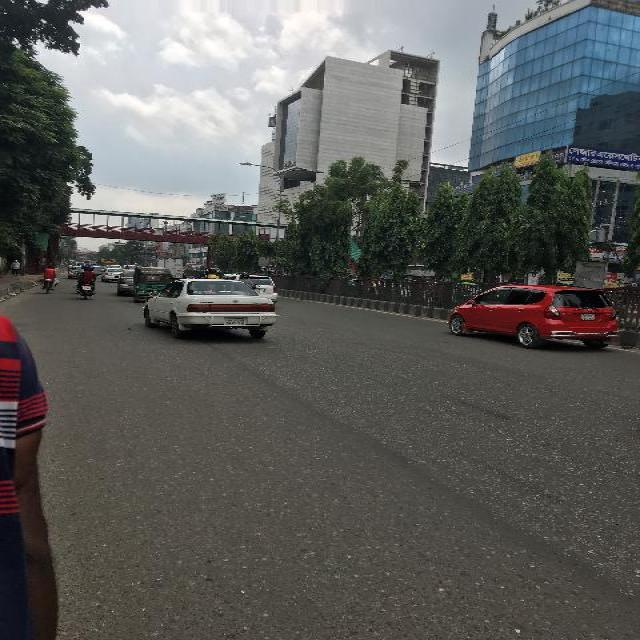10: (74, 265, 97, 299)
17: (133, 266, 171, 302)
5: (445, 284, 619, 350), (140, 279, 281, 339), (115, 270, 133, 296), (100, 267, 124, 281), (66, 266, 82, 278)
9: (103, 264, 121, 268)
Motorcycle: (42, 265, 57, 295)
Truck: (185, 262, 202, 270), (96, 258, 115, 264), (83, 260, 96, 264)
